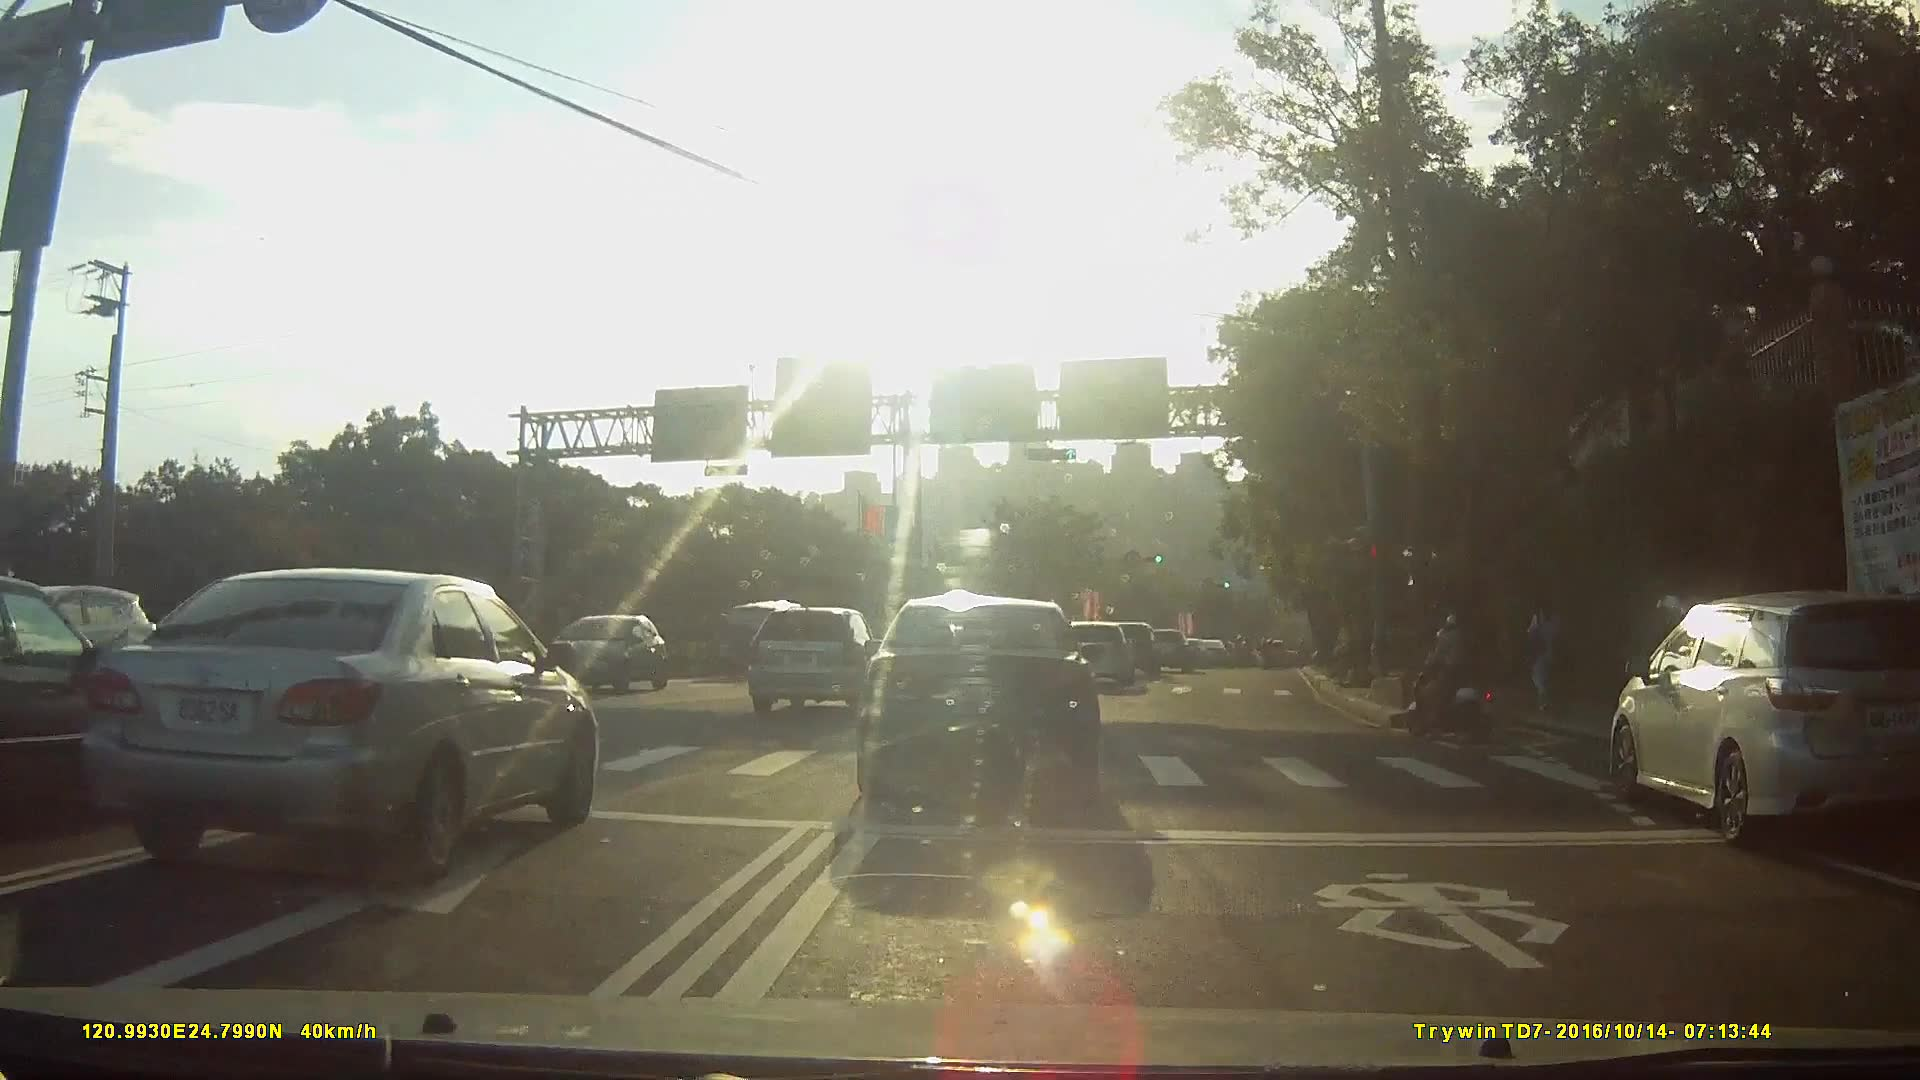pedestrian: (1524, 594, 1571, 720)
rider: (1410, 617, 1514, 753)
vehicle: (82, 568, 612, 880), (1605, 586, 1895, 868), (862, 598, 1116, 815), (1, 582, 161, 820), (755, 604, 897, 713), (540, 613, 690, 704), (712, 597, 809, 683), (1069, 622, 1143, 692), (1110, 621, 1172, 679), (1148, 628, 1204, 672), (1198, 639, 1237, 667)
